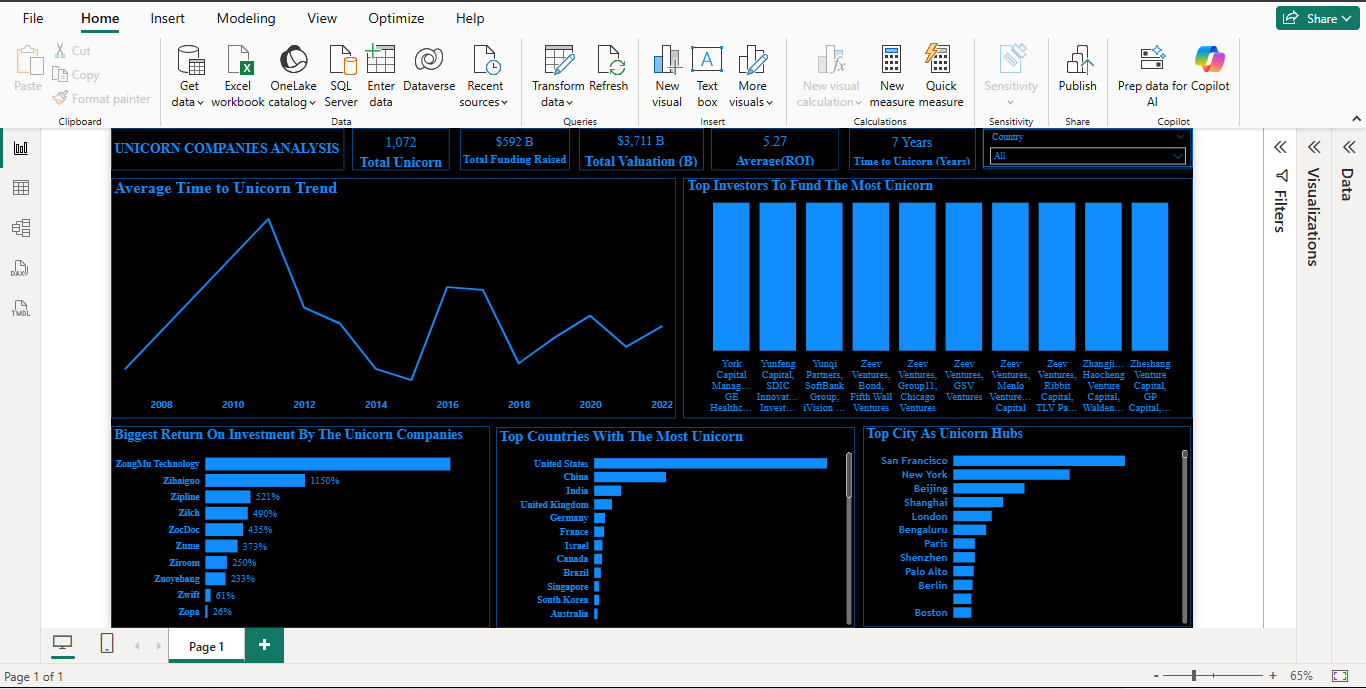

What the dashboard file says about the page in this screenshot:
{"tool":"powerbi","page":{"name":"Page 1","canvas":[1664,769],"ordinal":0},"visuals":[{"type":"textbox","box":[0,13.9,371.1,34.8],"z":0},{"type":"shape","box":[0,0,358.8,65],"z":1000},{"type":"shape","box":[371.2,0,150,65],"z":2000},{"type":"shape","box":[1340.8,1.5,320.1,61.9],"z":3000},{"type":"shape","box":[719.1,0,191.8,65],"z":4000},{"type":"shape","box":[923.2,0,196.4,65],"z":5000},{"type":"card","fields":{"Values":["Unicorn_Companies.Total Unicorn"]},"box":[366.5,1.5,159.3,65],"z":6000},{"type":"shape","box":[536.6,0,168.6,65],"z":7000},{"type":"card","fields":{"Values":["Unicorn_Companies.Total Funding Raised"]},"box":[533.5,0,174.8,61.9],"z":8000},{"type":"card","fields":{"Values":["Unicorn_Companies.Total Valuation (B)"]},"box":[716,0,196.4,65],"z":9000},{"type":"shape","box":[1.5,77.3,909.3,383.5],"z":10000},{"type":"shape","box":[593.8,471.7,552.1,296.9],"z":11000},{"type":"shape","box":[1161.4,471.7,502.6,296.9],"z":12000},{"type":"shape","box":[923.2,77.3,740.8,383.5],"z":13000},{"type":"shape","box":[0,472.2,581.4,296.8],"z":14000},{"type":"barChart","title":"Biggest Return On Investment By The Unicorn Companies","fields":{"Y":["Unicorn_Companies.Return On Investment(ROI)"],"Category":["Unicorn_Companies.Company"]},"box":[0,472.2,581.4,295.3],"z":15000},{"type":"lineChart","title":"Average Time to Unicorn Trend","fields":{"Y":["Unicorn_Companies.Average Time to Unicorn by Year"],"Category":["Unicorn_Companies.Date Joined.Variation.Date Hierarchy.Year"]},"box":[0,77.3,912.4,383.5],"z":16000},{"type":"barChart","title":"Top Countries With The Most Unicorn","fields":{"Category":["Unicorn_Companies.Country"],"Y":["Unicorn_Companies.Total Unicorn"]},"box":[593.8,471.7,552.1,296.9],"z":17000},{"type":"barChart","title":"Top City As Unicorn Hubs","fields":{"Category":["Unicorn_Companies.City"],"Y":["Unicorn_Companies.Total Unicorn"]},"box":[1161.4,471.7,502.6,295.4],"z":18000},{"type":"columnChart","title":"Top Investors To Fund The Most Unicorn","fields":{"Category":["Unicorn_Companies.Select Investors"],"Y":["Unicorn_Companies.Total Unicorn"]},"box":[923.2,77.3,737.7,383.5],"z":19000},{"type":"card","fields":{"Values":["Unicorn_Companies.Average(ROI)"]},"box":[923.2,0,196.4,63.4],"z":20000},{"type":"card","fields":{"Values":["Unicorn_Companies.Time to Unicorn (Text)"]},"box":[1134.4,3.6,193.2,59],"z":21000},{"type":"shape","box":[1132.6,3.6,195,64.4],"z":22000},{"type":"slicer","fields":{"Values":["Unicorn_Companies.Country"]},"box":[1340.8,0,323.2,60.3],"z":23000}]}

Visuals, with their boxes on the page's 1664x769 design canvas (x1, y1, x2, y2). These are canvas units, not pixel positions in the 1366x689 screenshot, which may show the page scaled, cropped or inside an application window:
textbox: <bbox>0, 14, 371, 49</bbox>
shape: <bbox>0, 0, 359, 65</bbox>
shape: <bbox>371, 0, 521, 65</bbox>
shape: <bbox>1341, 2, 1661, 63</bbox>
shape: <bbox>719, 0, 911, 65</bbox>
shape: <bbox>923, 0, 1120, 65</bbox>
card - Unicorn_Companies.Total Unicorn: <bbox>366, 2, 526, 66</bbox>
shape: <bbox>537, 0, 705, 65</bbox>
card - Unicorn_Companies.Total Funding Raised: <bbox>534, 0, 708, 62</bbox>
card - Unicorn_Companies.Total Valuation (B): <bbox>716, 0, 912, 65</bbox>
shape: <bbox>2, 77, 911, 461</bbox>
shape: <bbox>594, 472, 1146, 769</bbox>
shape: <bbox>1161, 472, 1664, 769</bbox>
shape: <bbox>923, 77, 1664, 461</bbox>
shape: <bbox>0, 472, 581, 769</bbox>
"Biggest Return On Investment By The Unicorn Companies" barChart: <bbox>0, 472, 581, 768</bbox>
"Average Time to Unicorn Trend" lineChart: <bbox>0, 77, 912, 461</bbox>
"Top Countries With The Most Unicorn" barChart: <bbox>594, 472, 1146, 769</bbox>
"Top City As Unicorn Hubs" barChart: <bbox>1161, 472, 1664, 767</bbox>
"Top Investors To Fund The Most Unicorn" columnChart: <bbox>923, 77, 1661, 461</bbox>
card - Unicorn_Companies.Average(ROI): <bbox>923, 0, 1120, 63</bbox>
card - Unicorn_Companies.Time to Unicorn (Text): <bbox>1134, 4, 1328, 63</bbox>
shape: <bbox>1133, 4, 1328, 68</bbox>
slicer - Unicorn_Companies.Country: <bbox>1341, 0, 1664, 60</bbox>
